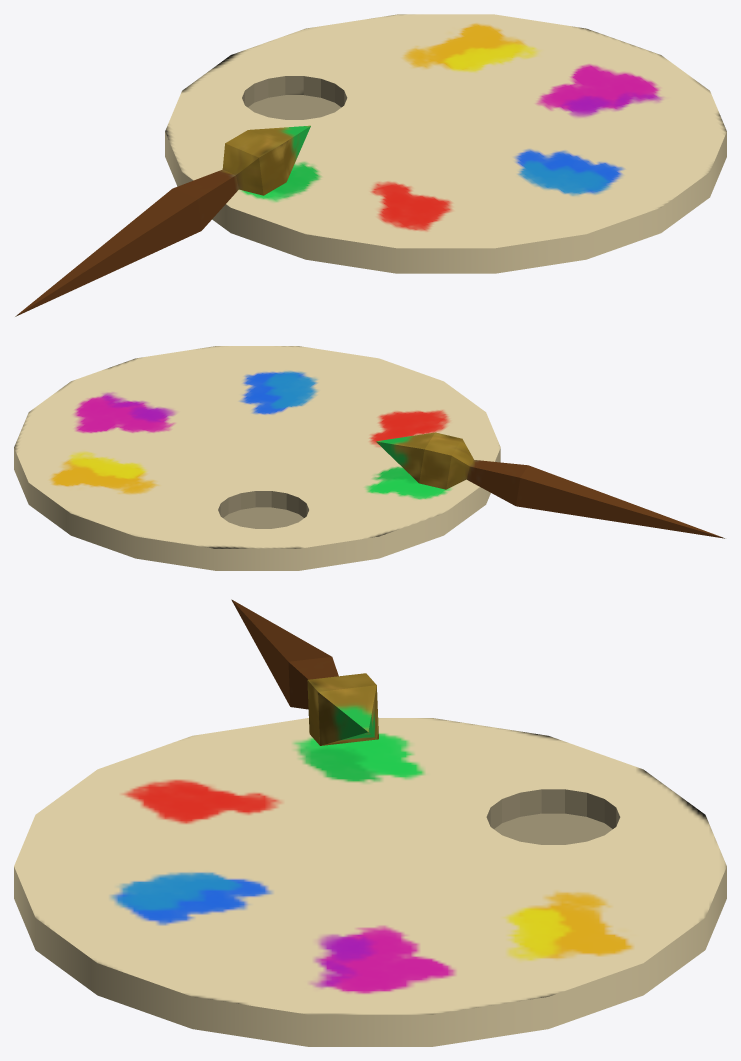
The model's file is pinceau_palette.fbx.
3 renders of one model, top to bottom at view 1: azimuth 30°, elevation 25°; view 2: azimuth 150°, elevation 25°; view 3: azimuth 270°, elevation 25°, orthographic. The views are drawn at different scales.
Visible parts, largest first — view 1: palette, Pinceau; view 2: palette, Pinceau; view 3: palette, Pinceau.
Boxes of the visible parts, left/top/right/bottom form: palette: left=165, top=14, right=726, bottom=273; Pinceau: left=15, top=125, right=310, bottom=316; palette: left=14, top=346, right=500, bottom=570; Pinceau: left=376, top=432, right=725, bottom=538; palette: left=14, top=718, right=726, bottom=1046; Pinceau: left=231, top=599, right=378, bottom=745.
Size of the model in its own units: 149 by 14.6 by 100.
1 material, 1 textured.
